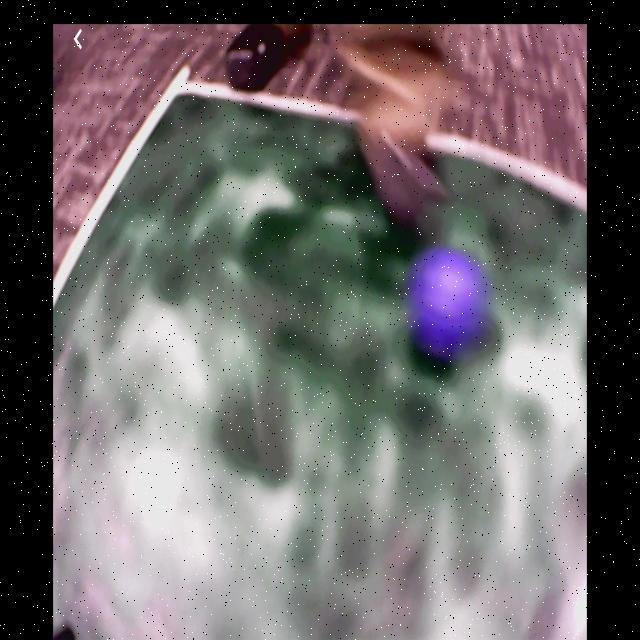ball: (417, 252, 477, 348)
